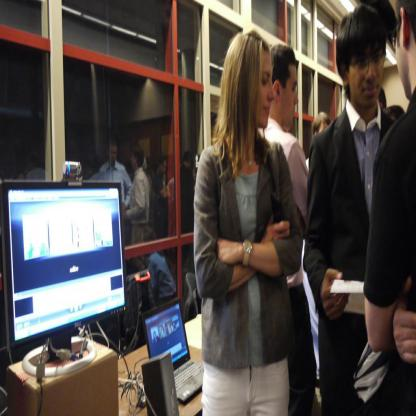board: (139, 285, 199, 406)
